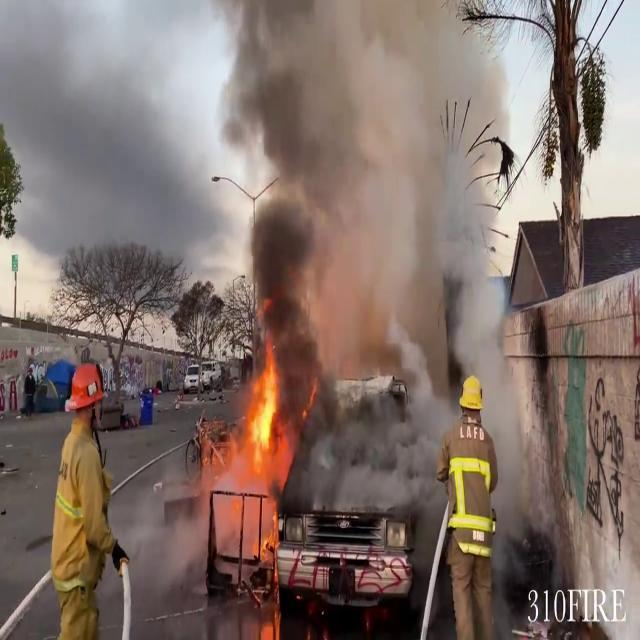Fire: (200, 339, 294, 572)
Smoke: (212, 0, 533, 381)
